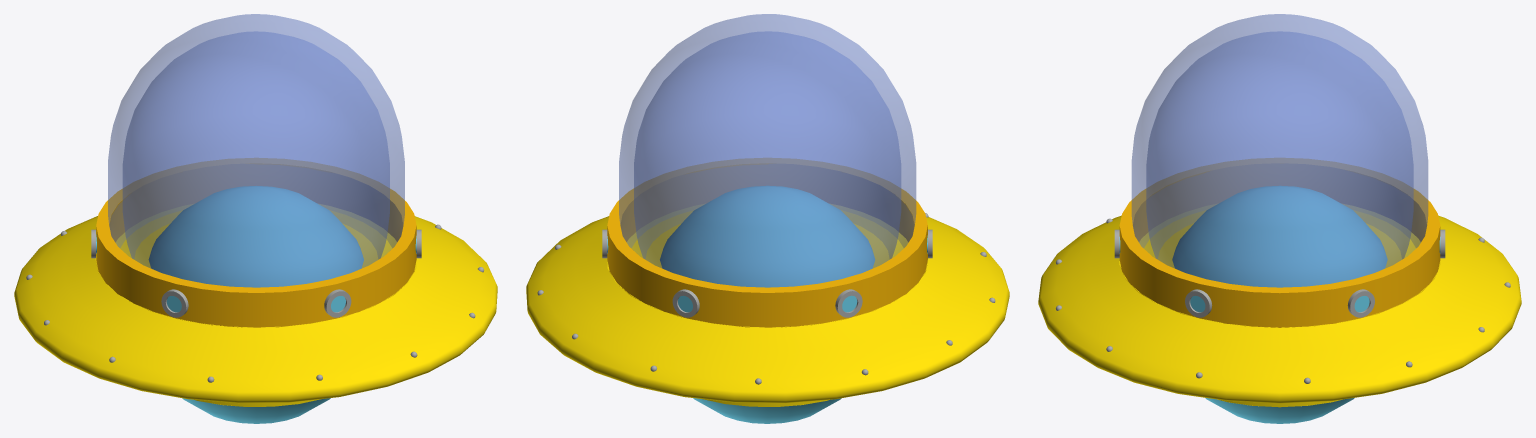
3 renders of one model, left to right at view 1: azimuth 30°, elevation 25°; view 2: azimuth 150°, elevation 25°; view 3: azimuth 270°, elevation 25°, orthographic.
Visible parts, largest first — view 1: Capsule_2, Capsule, Loft, Tube, Sphere, Cap_1; view 2: Capsule_2, Capsule, Loft, Tube, Sphere, Cap_1; view 3: Capsule_2, Capsule, Loft, Tube, Sphere, Cap_1.
Part boxes in pixels (x1,y1,x2,y2): Capsule_2: (108,14,404,287); Capsule: (123,31,389,286); Loft: (14,216,497,406); Tube: (96,158,416,327); Sphere: (148,186,363,423); Cap_1: (95,204,416,327); Capsule_2: (619,14,916,287); Capsule: (634,31,900,286); Loft: (526,216,1009,406); Tube: (607,158,927,327); Sphere: (660,185,875,423); Cap_1: (607,204,928,327); Capsule_2: (1131,14,1428,287); Capsule: (1146,31,1413,286); Loft: (1038,215,1521,407); Tube: (1119,158,1440,327); Sphere: (1172,185,1387,423); Cap_1: (1119,204,1440,327).
Bounding box in the file's own units: 403 × 356 × 404.
4 materials, 4 textured.
